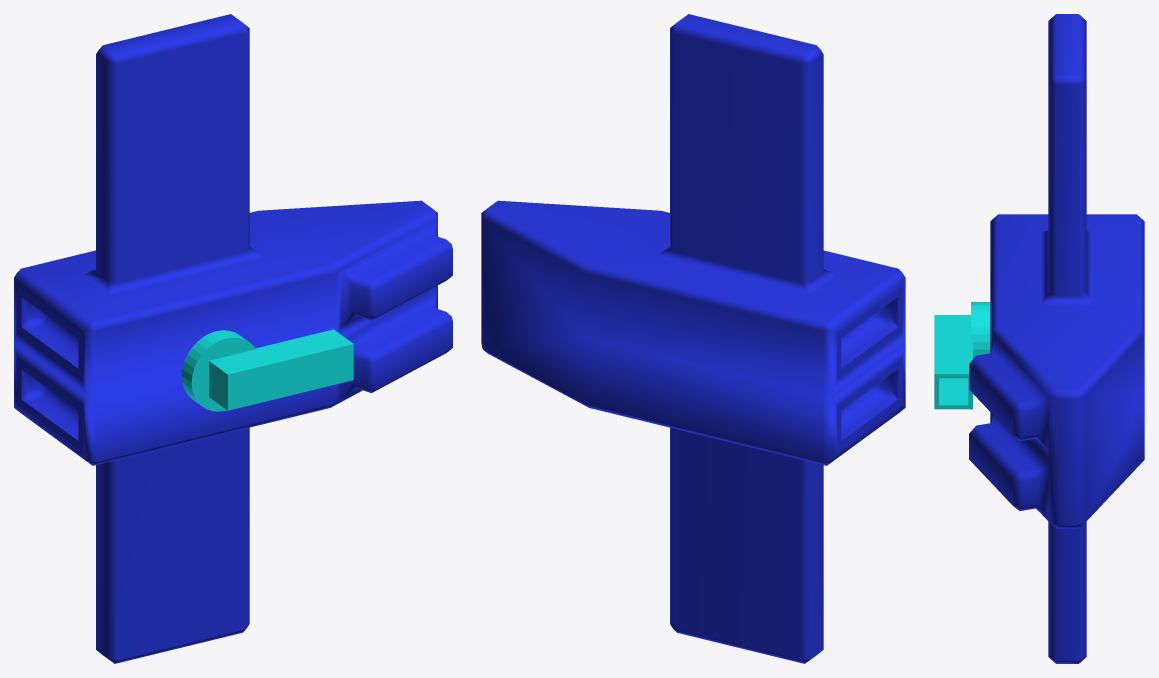
Rendered from gnat2_5.glb.
3 renders of one model, left to right at view 1: azimuth 30°, elevation 25°; view 2: azimuth 150°, elevation 25°; view 3: azimuth 270°, elevation 25°, orthographic. The views are drawn at different scales.
Parts seen in each view (by area): view 1: ship, cannon; view 2: ship; view 3: ship, cannon.
Boxes of the visible parts, x1,y1,x2,y2 form: ship: [14, 14, 452, 663]; cannon: [181, 329, 353, 411]; ship: [481, 14, 905, 663]; ship: [969, 14, 1144, 663]; cannon: [934, 302, 990, 409].
Bounding box in the file's own units: 5.56 × 8.44 × 2.73.
